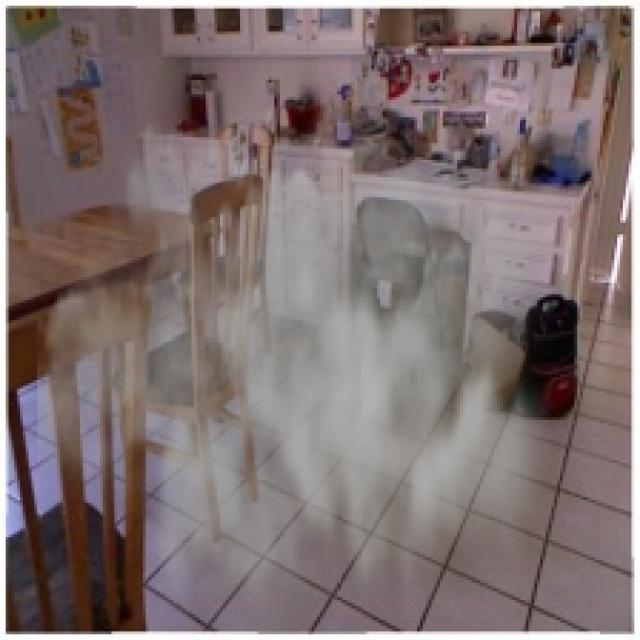smoke: (37, 66, 583, 634)
